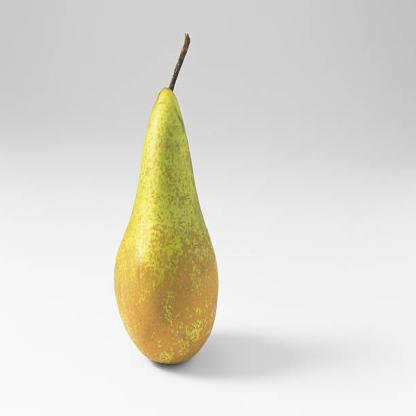Paer: (104, 39, 246, 372)
